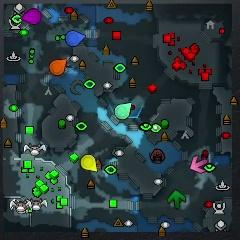p1: (66, 31, 86, 46)
p2: (115, 103, 131, 119)
p3: (23, 8, 42, 24)
p4: (80, 155, 97, 171)
p5: (50, 60, 67, 75)
x1: (190, 155, 208, 173)
x4: (168, 190, 185, 208)
